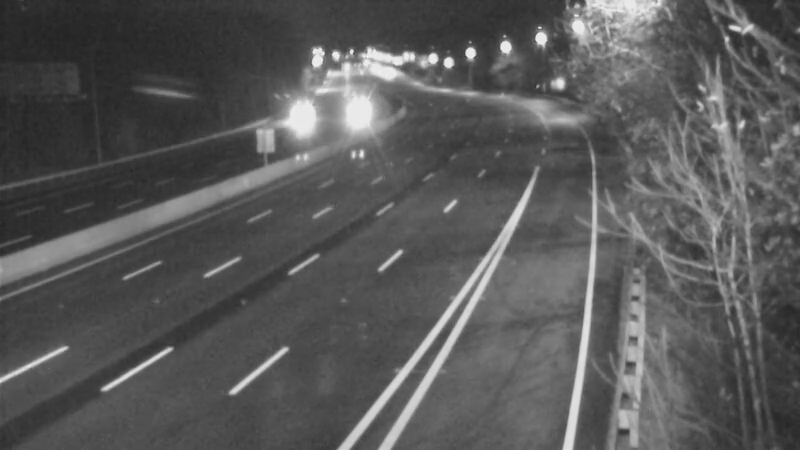vehicle: (274, 95, 324, 145), (335, 94, 385, 144)
